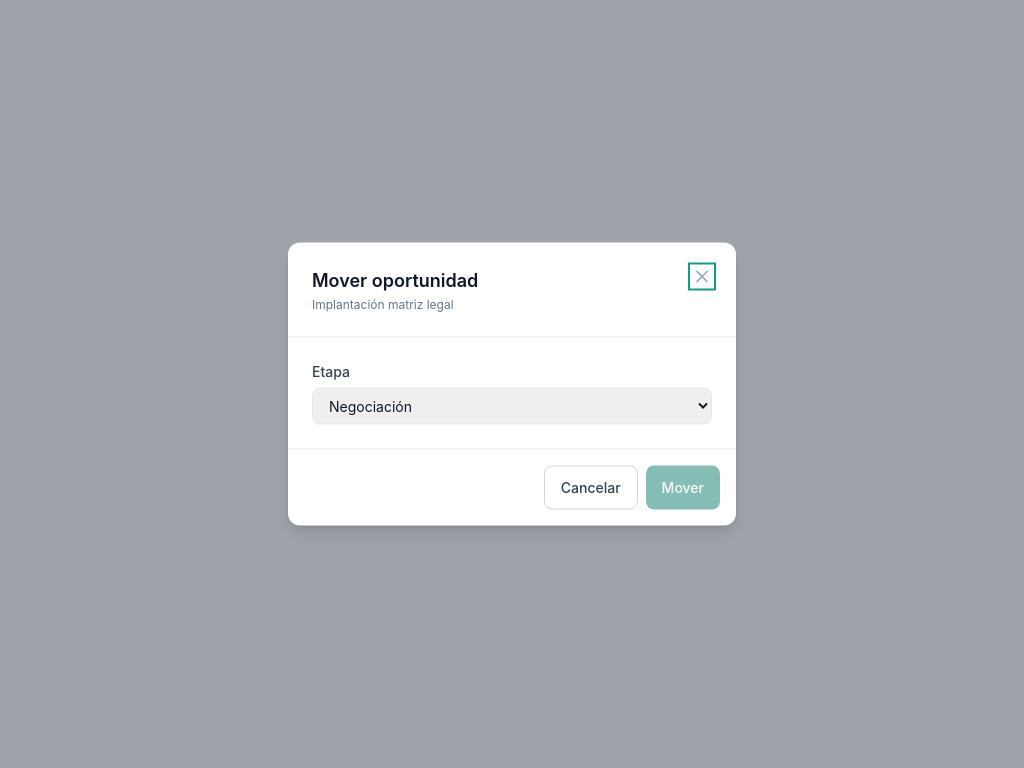
mover a una etapa que pierde › aparece el campo de motivo
Select "Perdido" in the dropdown labelled "Etapa": (512, 406) [312, 388, 712, 424]
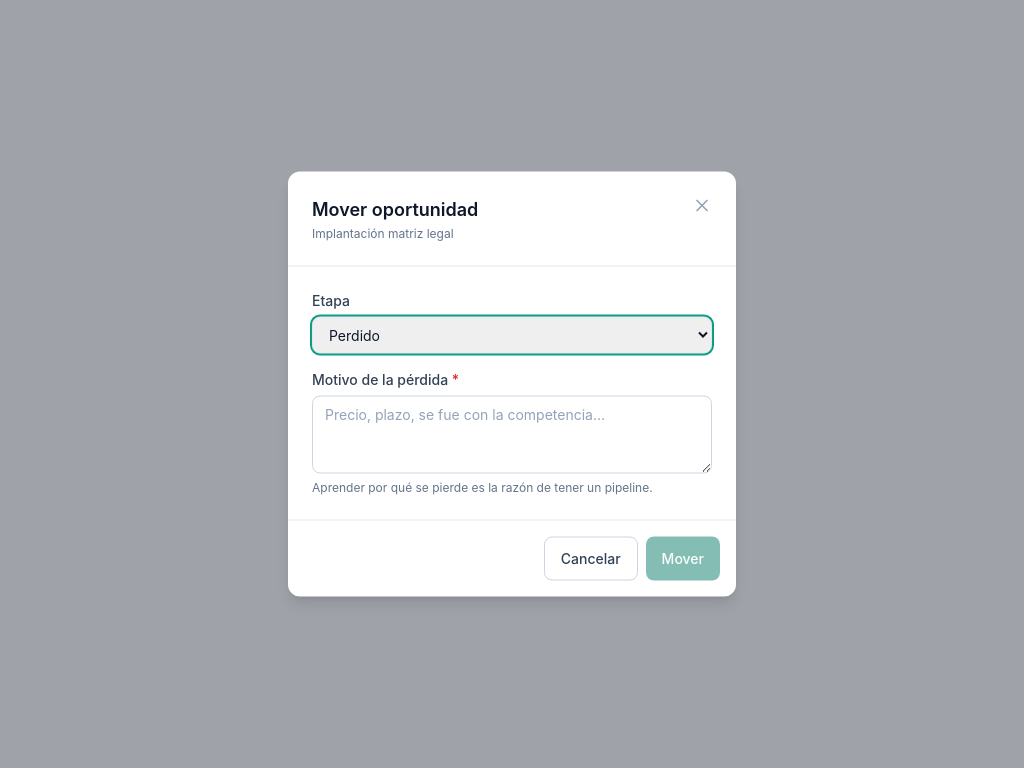
Check: the text box labelled "Motivo de la pérdida *" is shown, box [312, 396, 712, 474]
